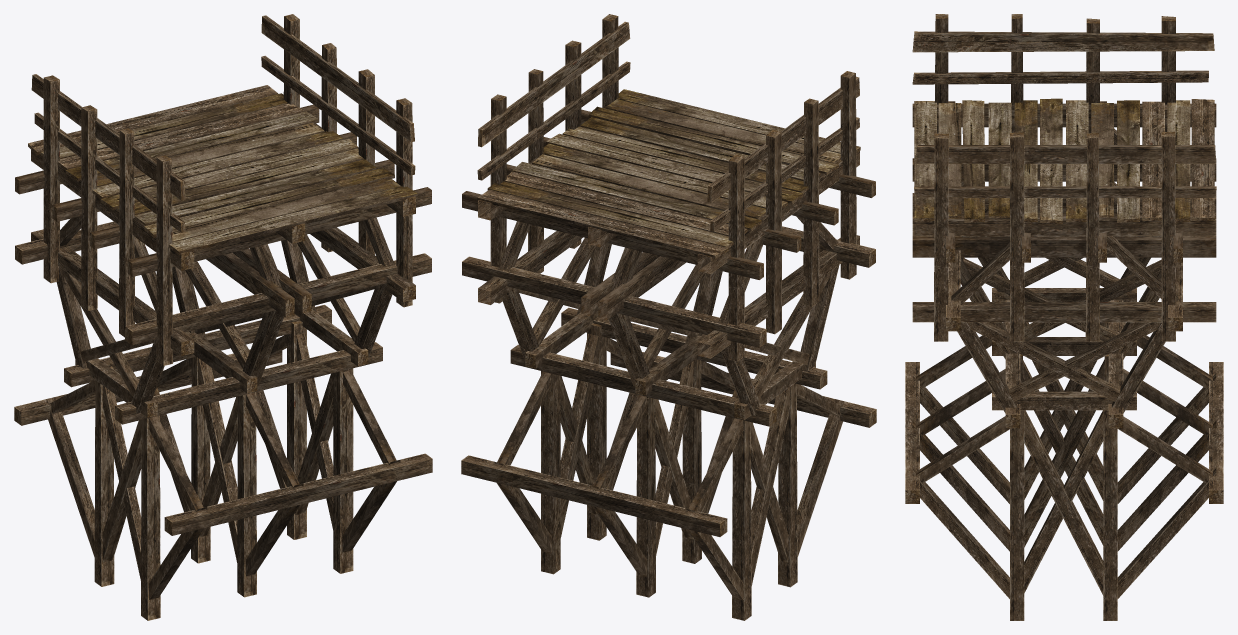
File: WoodBridgeSupport.dae
3 renders of one model, left to right at view 1: azimuth 30°, elevation 25°; view 2: azimuth 150°, elevation 25°; view 3: azimuth 270°, elevation 25°, orthographic.
Parts seen in each view (by area): view 1: WoodBridgeAbutment; view 2: WoodBridgeAbutment; view 3: WoodBridgeAbutment.
Boxes of the visible parts, x1,y1,x2,y2 form: WoodBridgeAbutment: (14,14,432,620); WoodBridgeAbutment: (461,14,876,620); WoodBridgeAbutment: (905,14,1223,620).
Size of what is drawn, in the model's own units: 4.6 by 7.21 by 4.19.
1 material, 1 textured.
